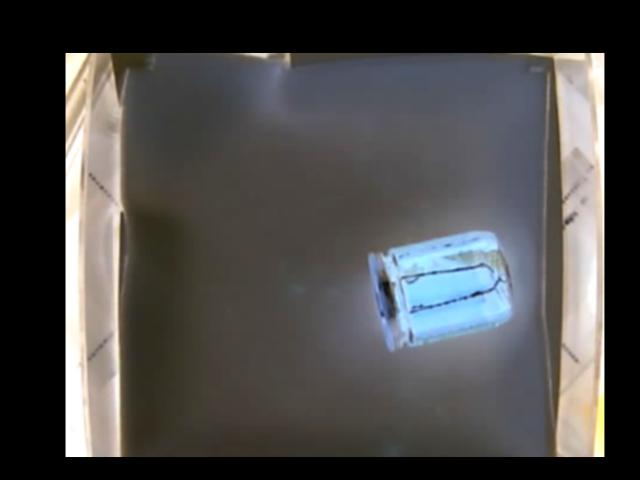Bottle: (367, 228, 513, 353)
